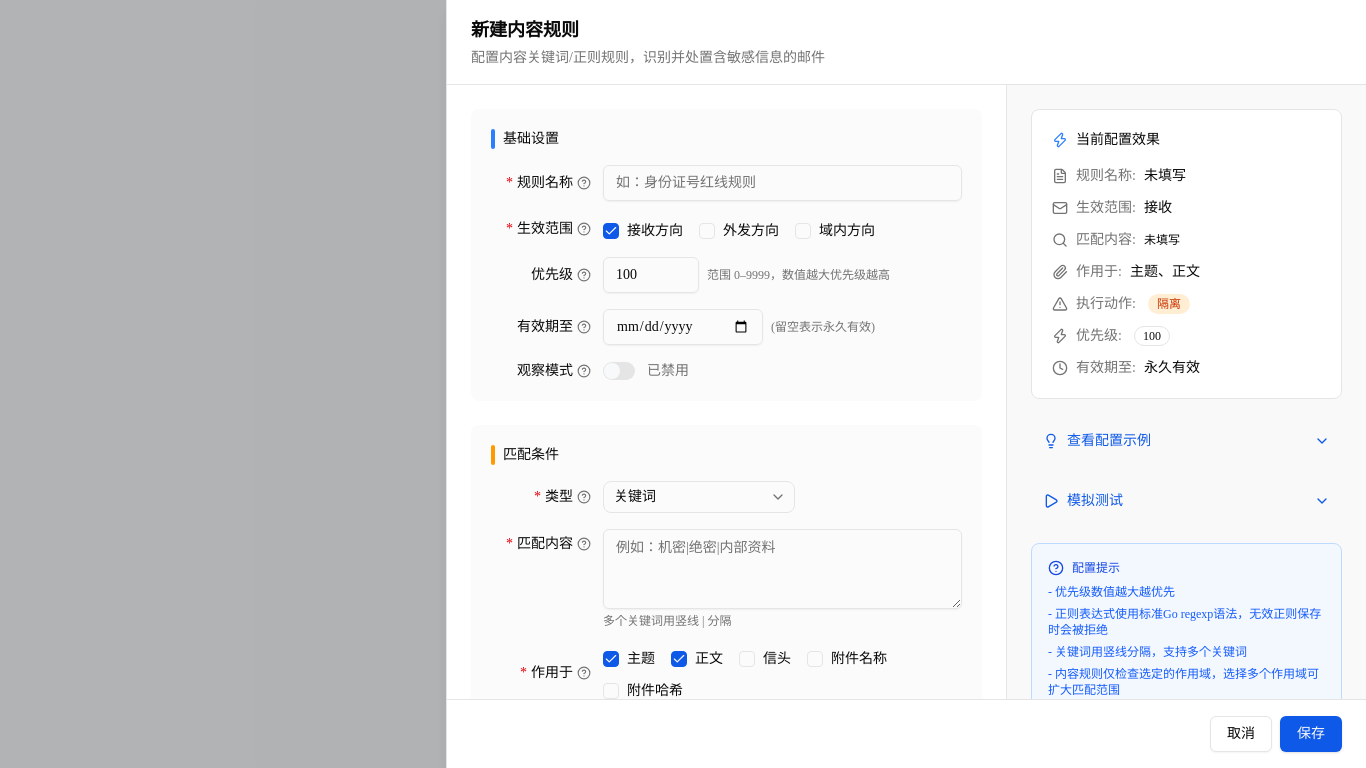
Test: 内容规则抽屉：正则判定权归后端 › 模拟测试遇到非法正则时展示后端返回的 pattern 与原因，而不是笼统的"测试失败"
The width and height of the screenshot is (1366, 768).
Type "(?=a)b" into the text box with test id "content-rule-match-content" at [782, 569], box [603, 529, 962, 609]
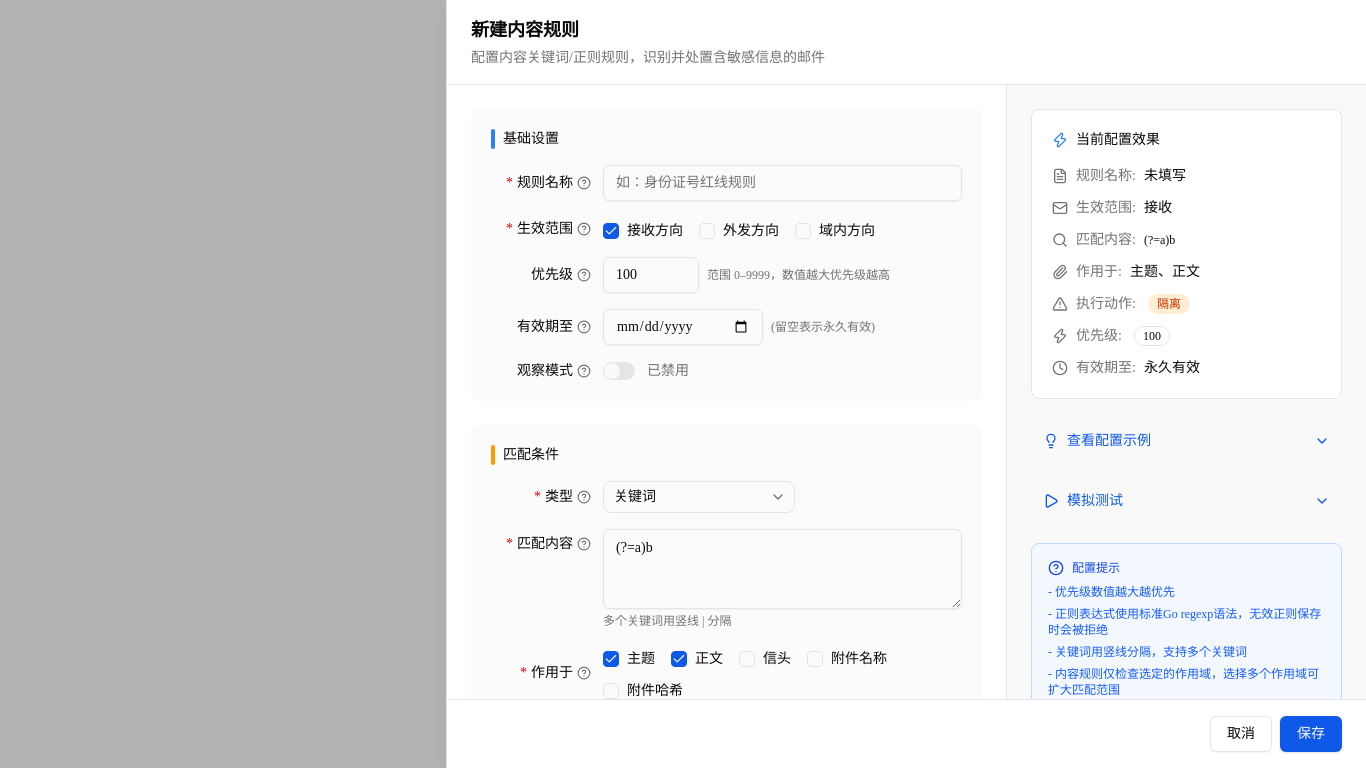
Click the button "模拟测试" at [1095, 500], box [1031, 483, 1342, 519]
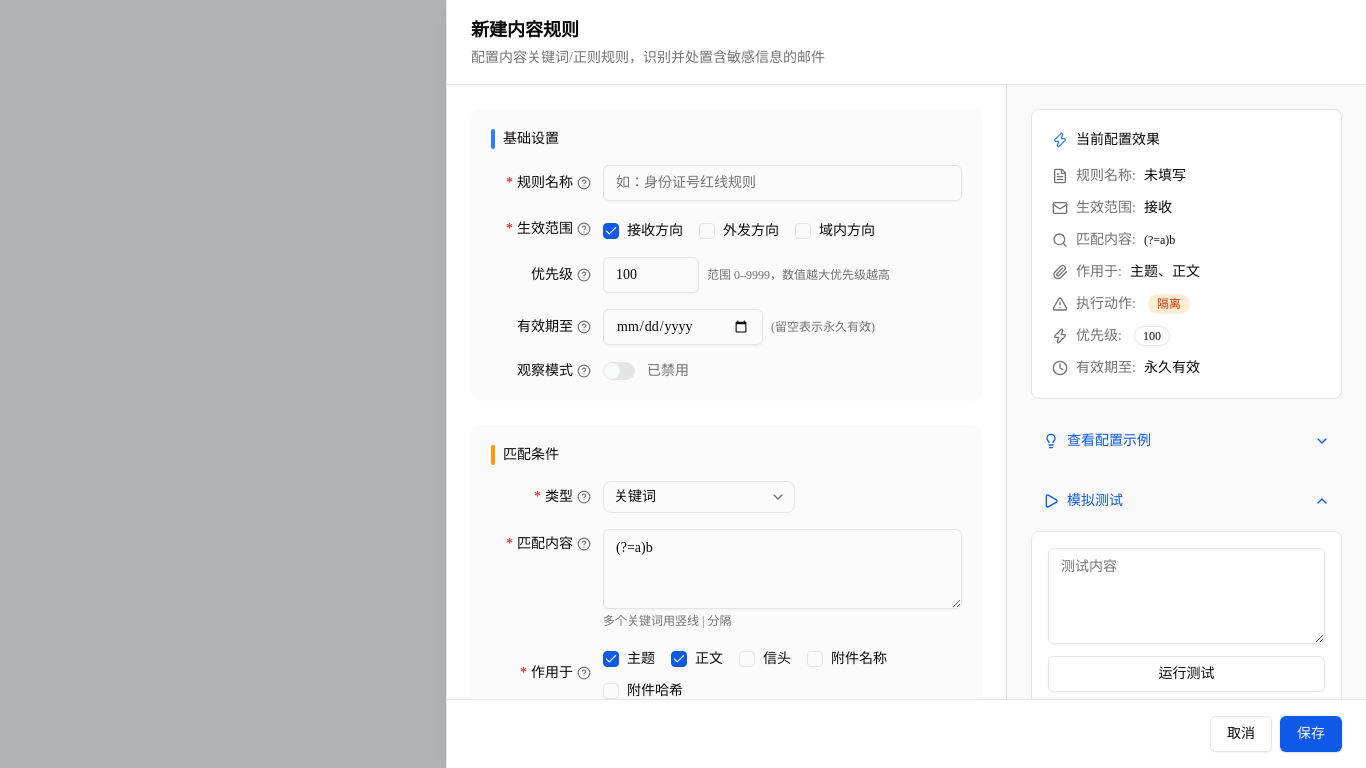
Type "ab" into the text box with placeholder "测试内容" at [1186, 596], box [1048, 548, 1325, 644]
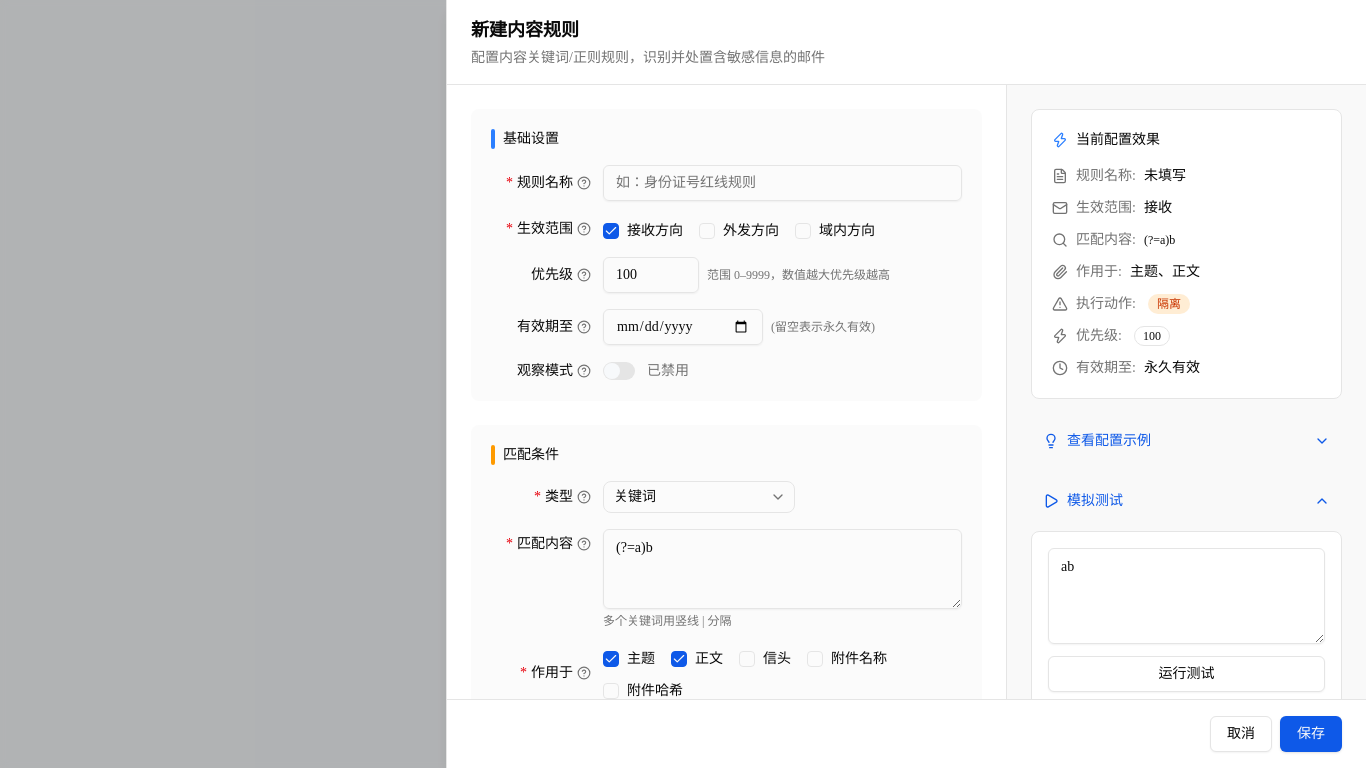
Click the button "运行测试" at [1186, 674], box [1048, 656, 1325, 692]
(page scrolled)
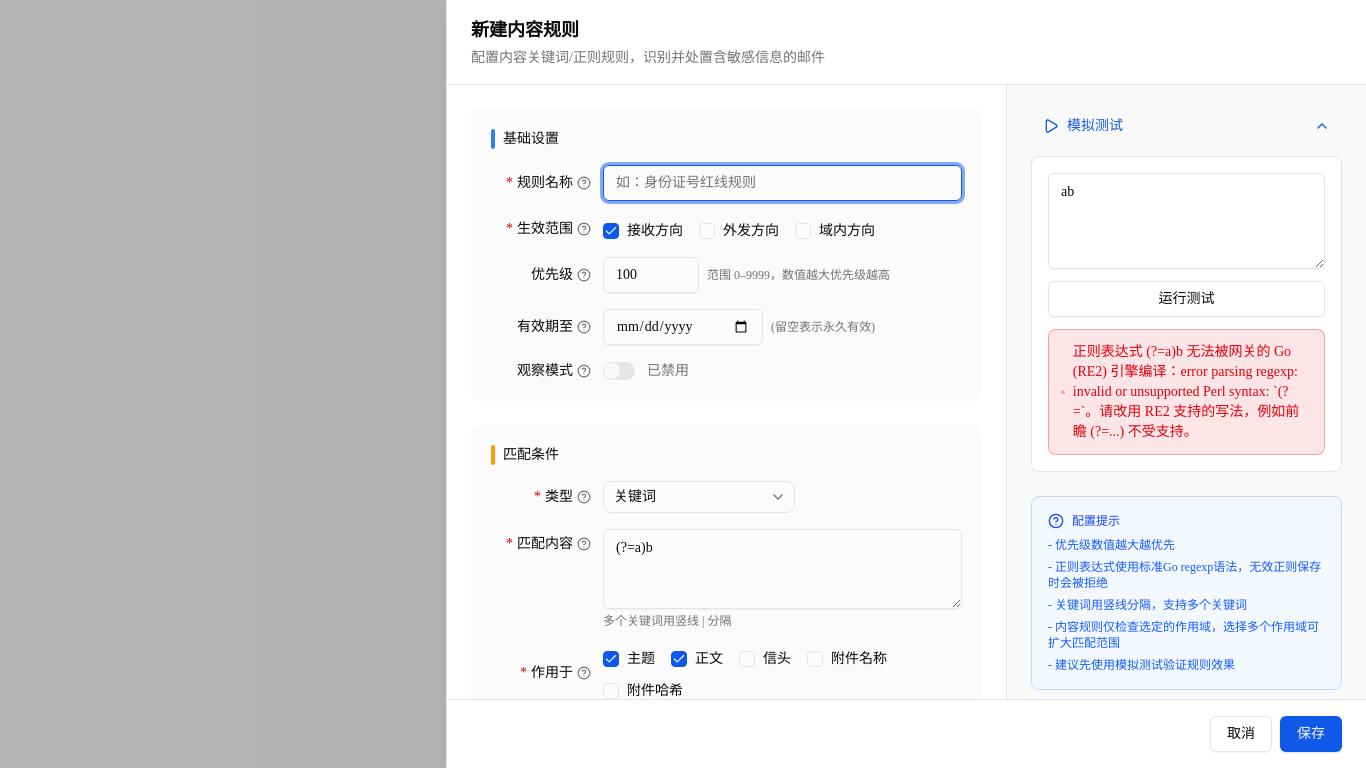
Expected: the text "unsupported Perl syntax" shows "(?=a)b", [1073, 344, 1299, 439]
